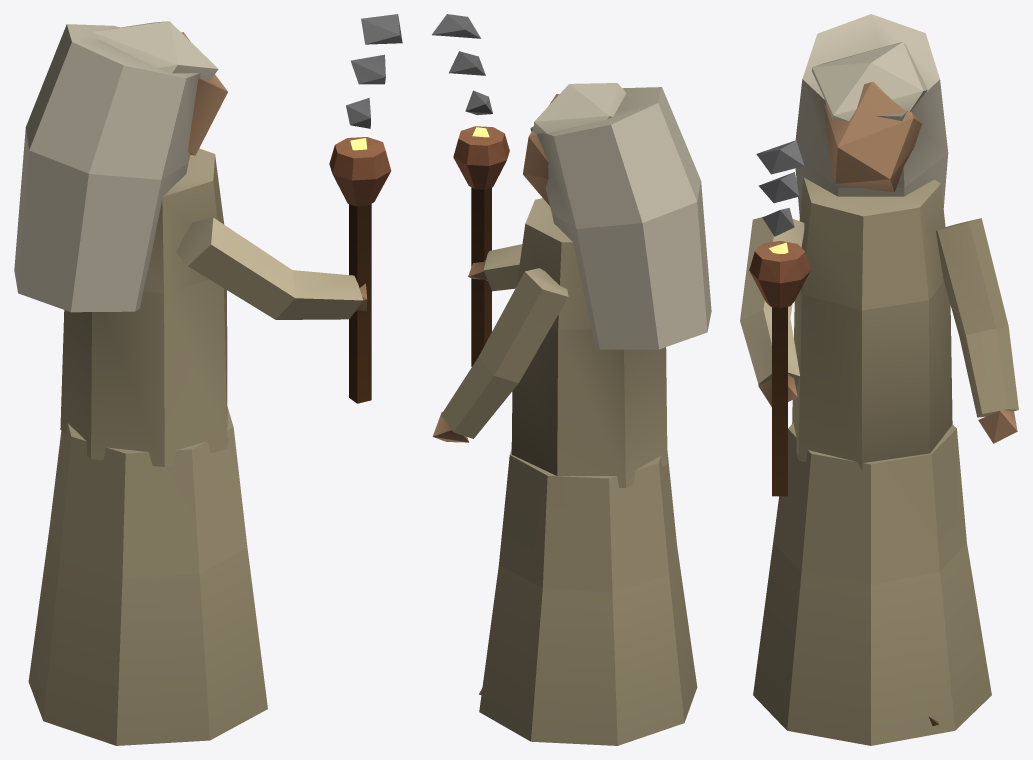
File: foolvirgin.glb
3 views of the same model, side by side, from view 1: azimuth 30°, elevation 25°; view 2: azimuth 150°, elevation 25°; view 3: azimuth 270°, elevation 25° (orthographic). The views are drawn at different scales.
Parts seen in each view (by area): view 1: base, head_m, lamp_m; view 2: base, head_m, lamp_m; view 3: base, head_m, lamp_m.
Part boxes in pixels (box(x1,y1,x2,y2)): base: box(28, 148, 267, 745); head_m: box(14, 21, 227, 312); lamp_m: box(176, 14, 402, 403); base: box(432, 198, 697, 745); head_m: box(523, 83, 711, 349); lamp_m: box(432, 14, 522, 366); base: box(753, 177, 1018, 745); head_m: box(795, 14, 948, 217); lamp_m: box(740, 140, 810, 496).
Size of the model in its own units: 0.2666 by 0.508 by 0.199.
